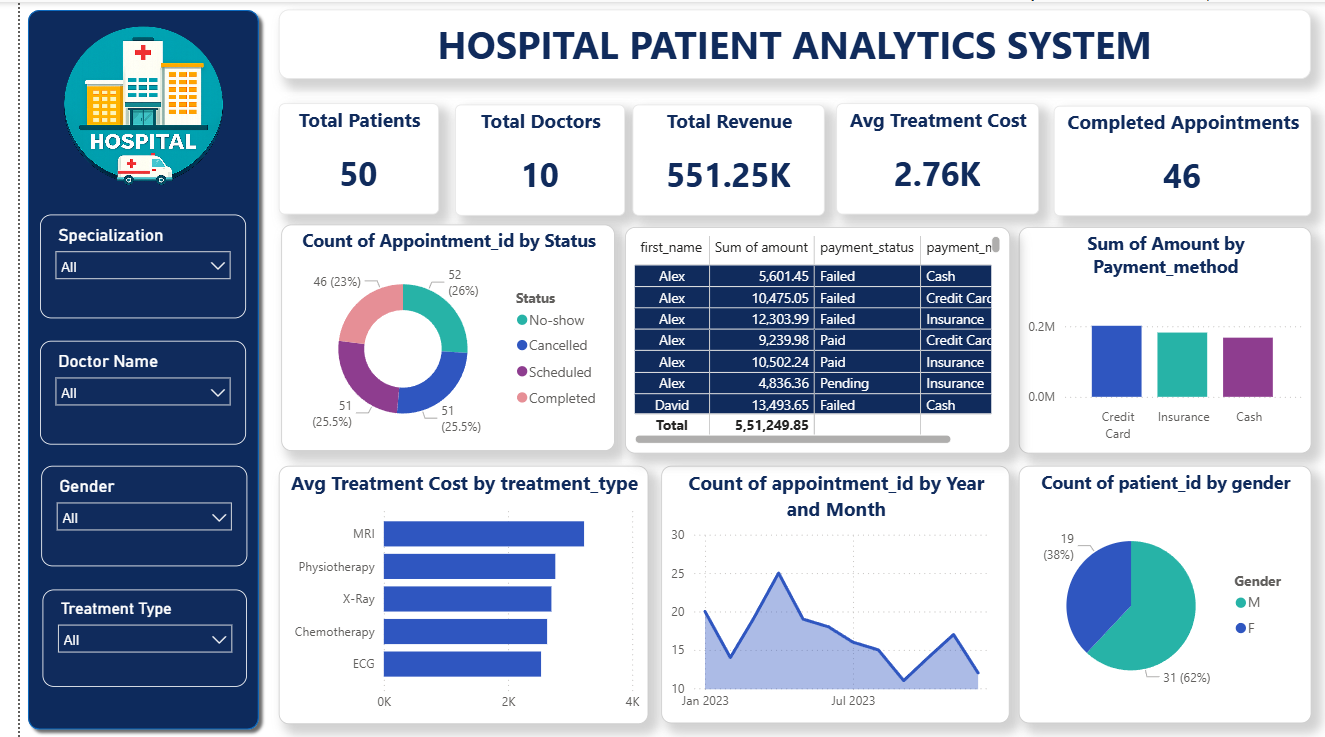

The dashboard page shown, as its layout file describes it:
{"tool":"powerbi","page":{"name":"DASHBOARD","canvas":[1280,720],"ordinal":0},"visuals":[{"type":"shape","box":[0,0,241.5,719.5],"z":0},{"type":"image","box":[0,0,241.5,217.1],"z":1000},{"type":"textbox","box":[253.7,7.3,1009.8,68.3],"z":2000},{"type":"slicer","fields":{"Values":["doctors.specialization"]},"box":[19.5,207.3,201.2,101.2],"z":3000},{"type":"slicer","fields":{"Values":["doctors.first_name","doctors.last_name"]},"box":[19.5,331.7,201.2,101.2],"z":4000},{"type":"slicer","fields":{"Values":["patients.gender"]},"box":[20.7,453.7,201.2,98.8],"z":5000},{"type":"slicer","fields":{"Values":["treatments.treatment_type"]},"box":[22,574.4,200,95.1],"z":6000},{"type":"cardVisual","title":"Total Patients","fields":{"Data":["patients.Total Patients"]},"box":[253.1,99,156.5,108.8],"z":7000},{"type":"cardVisual","title":"Total Doctors","fields":{"Data":["doctors.Total Doctors"]},"box":[425.5,100.3,166.3,108.8],"z":8000},{"type":"cardVisual","title":"Total Revenue","fields":{"Data":["billing.Total Revenue"]},"box":[599.2,100.3,188.3,108.8],"z":9000},{"type":"cardVisual","title":"Avg Treatment Cost","fields":{"Data":["treatments.Avg Treatment Cost"]},"box":[798.5,99,198.1,108.8],"z":10000},{"type":"cardVisual","title":"Completed Appointments","fields":{"Data":["appointments.Completed Appointments"]},"box":[1011.3,101.5,251.9,107.6],"z":11000},{"type":"donutChart","title":"Count of Appointment_id by Status","fields":{"Category":["appointments.status"],"Y":["CountNonNull(appointments.appointment_id)"]},"box":[255.6,217.7,326.5,221.3],"z":12000},{"type":"columnChart","title":"Sum of Amount by Payment_method","fields":{"Category":["billing.payment_method"],"Y":["Sum(billing.amount)"]},"box":[977,220.1,286.1,221.3],"z":13000},{"type":"clusteredBarChart","fields":{"Category":["treatments.treatment_type"],"Y":["treatments.Avg Treatment Cost"]},"box":[253.1,453.7,362,253.1],"z":14000},{"type":"areaChart","fields":{"Category":["appointments.appointment_date.Variation.Date Hierarchy.Year","appointments.appointment_date.Variation.Date Hierarchy.Month"],"Y":["CountNonNull(appointments.appointment_id)"]},"box":[627.3,453.7,341.2,251.9],"z":15000},{"type":"pieChart","fields":{"Category":["patients.gender"],"Y":["CountNonNull(patients.patient_id)"]},"box":[977,453.7,286.1,251.9],"z":16000},{"type":"tableEx","fields":{"Values":["patients.first_name","Sum(billing.amount)","billing.payment_status","billing.payment_method"]},"box":[591.9,220.1,376.6,221.3],"z":17000}]}

Visuals, with their boxes in screenshot pixels (x1, y1, x2, y2), scaled from the page's 1280x720 canvas onto the 1325x737 screenshot:
shape: detection(0, 0, 250, 736)
image: detection(0, 0, 250, 222)
textbox: detection(263, 7, 1308, 77)
slicer - doctors.specialization: detection(20, 212, 228, 316)
slicer - doctors.first_name x doctors.last_name: detection(20, 340, 228, 443)
slicer - patients.gender: detection(21, 464, 230, 566)
slicer - treatments.treatment_type: detection(23, 588, 230, 685)
"Total Patients" cardVisual: detection(262, 101, 424, 213)
"Total Doctors" cardVisual: detection(440, 103, 613, 214)
"Total Revenue" cardVisual: detection(620, 103, 815, 214)
"Avg Treatment Cost" cardVisual: detection(827, 101, 1032, 213)
"Completed Appointments" cardVisual: detection(1047, 104, 1308, 214)
"Count of Appointment_id by Status" donutChart: detection(265, 223, 603, 449)
"Sum of Amount by Payment_method" columnChart: detection(1011, 225, 1308, 452)
clusteredBarChart - treatments.treatment_type x treatments.Avg Treatment Cost: detection(262, 464, 637, 723)
areaChart - appointments.appointment_date.Variation.Date Hierarchy.Year x appointments.appointment_date.Variation.Date Hierarchy.Month: detection(649, 464, 1003, 722)
pieChart - patients.gender x CountNonNull(patients.patient_id): detection(1011, 464, 1308, 722)
tableEx - patients.first_name x Sum(billing.amount): detection(613, 225, 1003, 452)
